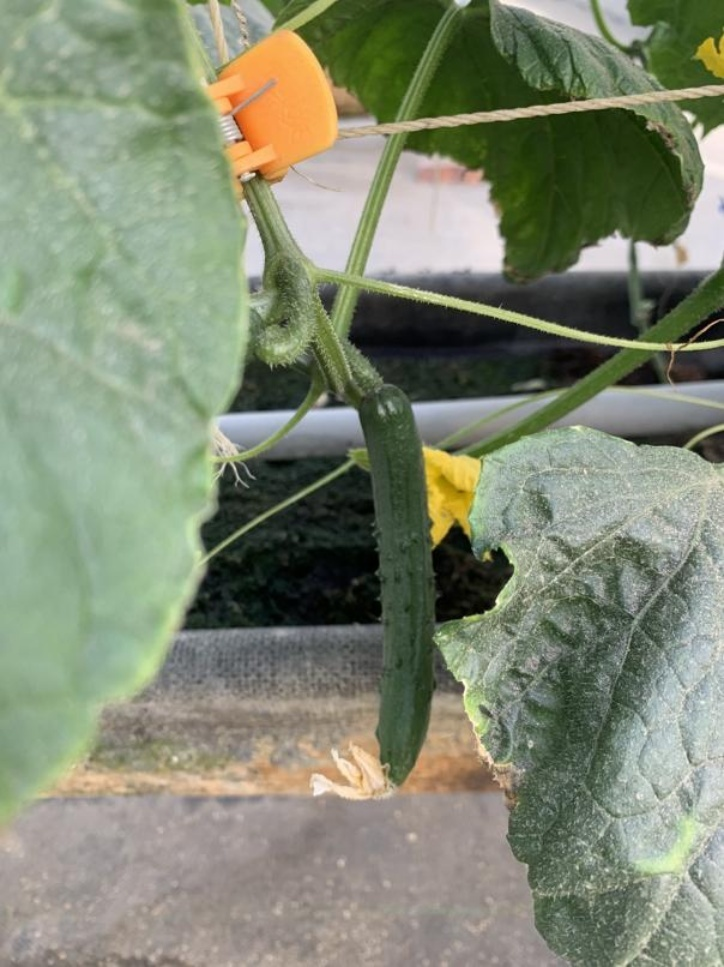mature: (347, 381, 447, 806)
